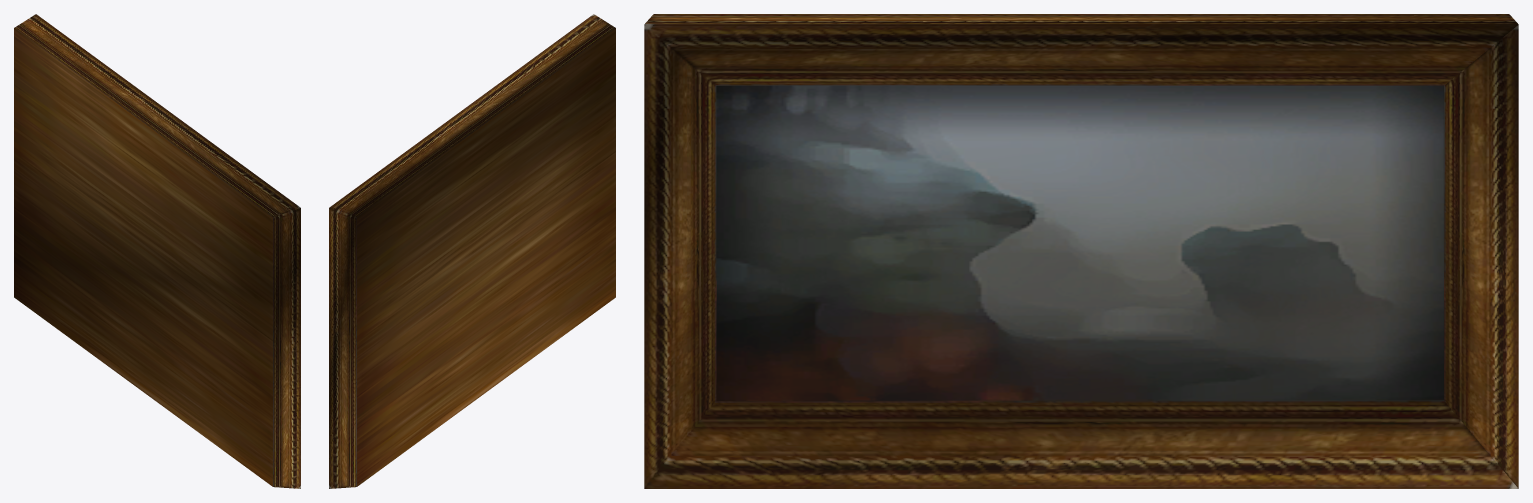
Rendered from stormwindpainting03.obj.
The picture shows the model from 3 angles, left to right: view 1: azimuth 30°, elevation 25°; view 2: azimuth 150°, elevation 25°; view 3: azimuth 270°, elevation 25°; orthographic projection. The views are drawn at different scales.
Visible parts, largest first — view 1: stormwindpainting03.m2; view 2: stormwindpainting03.m2; view 3: stormwindpainting03.m2.
Part boxes in pixels (<box>): stormwindpainting03.m2: <box>14,14,300,488</box>; stormwindpainting03.m2: <box>329,14,615,488</box>; stormwindpainting03.m2: <box>644,14,1518,488</box>.
Bounding box in the file's own units: 0.2287 × 2.47 × 4.21.
1 material, 1 textured.
